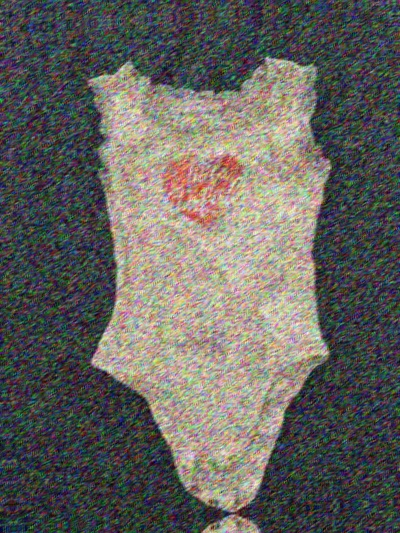Body: (25, 13, 375, 524), (60, 506, 400, 533), (0, 0, 340, 20)
